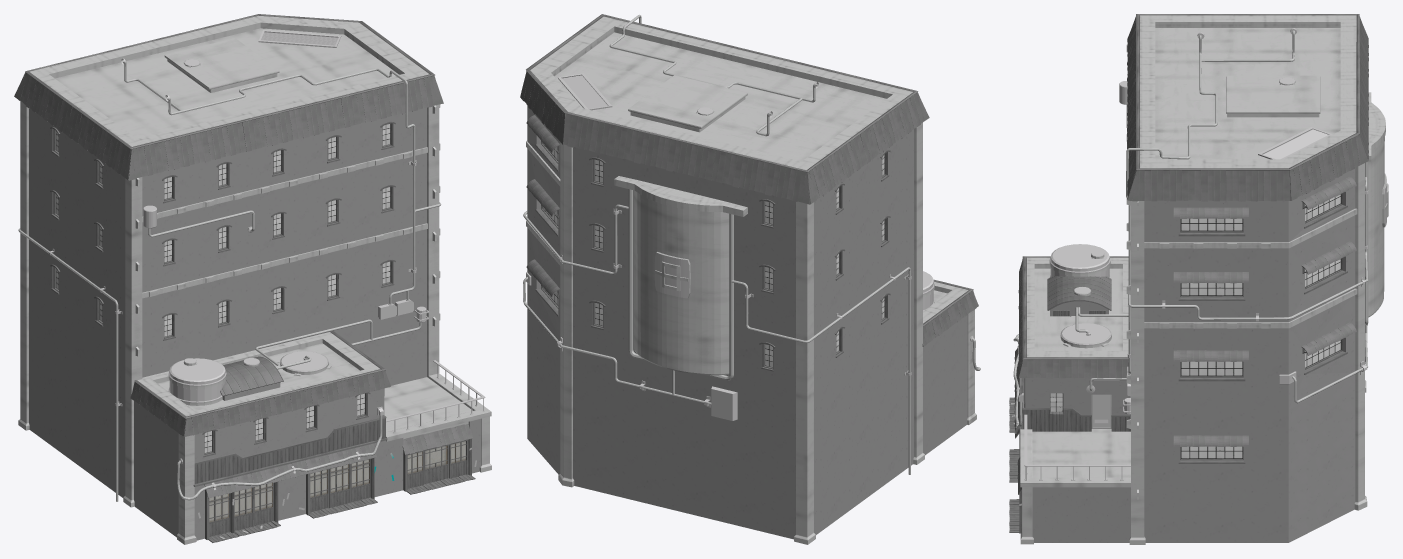
The model's file is SM_ENV_KNVLLG_AreaD_Building_A.mo.fbx.
3 renders of one model, left to right at view 1: azimuth 30°, elevation 25°; view 2: azimuth 150°, elevation 25°; view 3: azimuth 270°, elevation 25°, orthographic. The views are drawn at different scales.
Parts seen in each view (by area): view 1: SM_ENV_KNVLLG_AreaD_Building_A.mo; view 2: SM_ENV_KNVLLG_AreaD_Building_A.mo; view 3: SM_ENV_KNVLLG_AreaD_Building_A.mo.
Boxes of the visible parts, x1,y1,x2,y2 form: SM_ENV_KNVLLG_AreaD_Building_A.mo: [14, 14, 491, 544]; SM_ENV_KNVLLG_AreaD_Building_A.mo: [520, 14, 980, 544]; SM_ENV_KNVLLG_AreaD_Building_A.mo: [1009, 14, 1388, 544].
Size of the model in its own units: 26.28 by 29.85 by 25.78.
